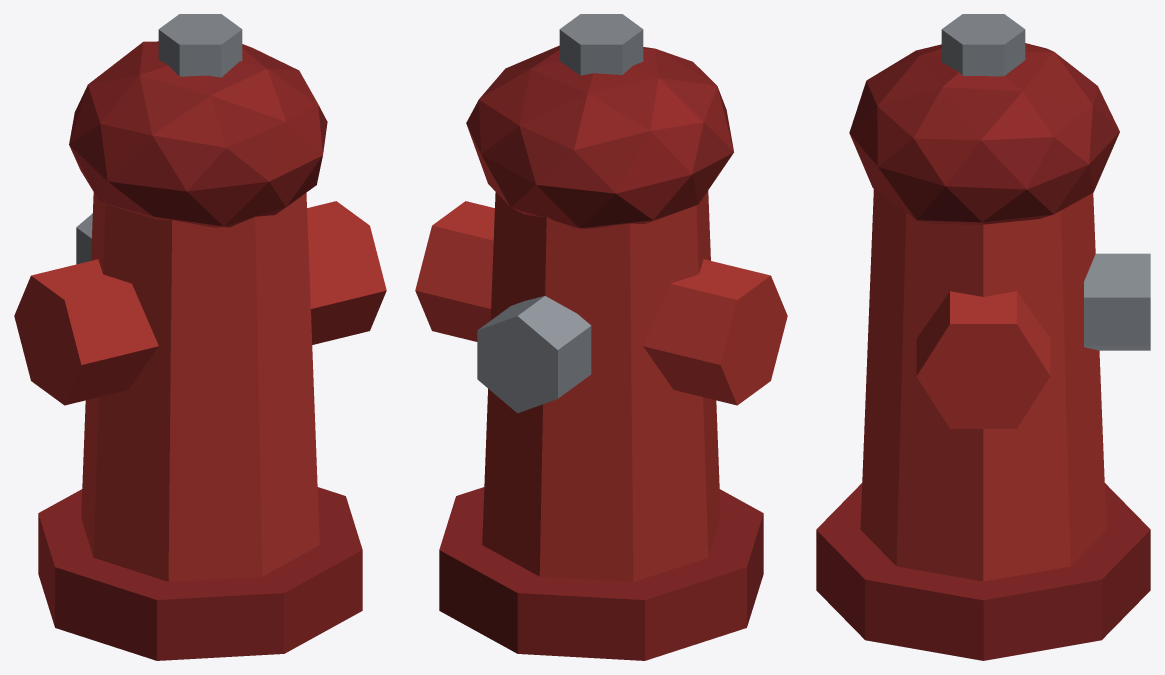
Rendered from Scatter_Hydrant.fbx.
3 renders of one model, left to right at view 1: azimuth 30°, elevation 25°; view 2: azimuth 150°, elevation 25°; view 3: azimuth 270°, elevation 25°, orthographic.
Parts seen in each view (by area): view 1: Hydrant; view 2: Hydrant; view 3: Hydrant.
Part boxes in pixels (bbox=[...]): Hydrant: bbox=[14, 14, 386, 660]; Hydrant: bbox=[415, 14, 787, 660]; Hydrant: bbox=[816, 14, 1150, 660].
Bounding box in the file's own units: 2.1 × 3.7 × 2.
